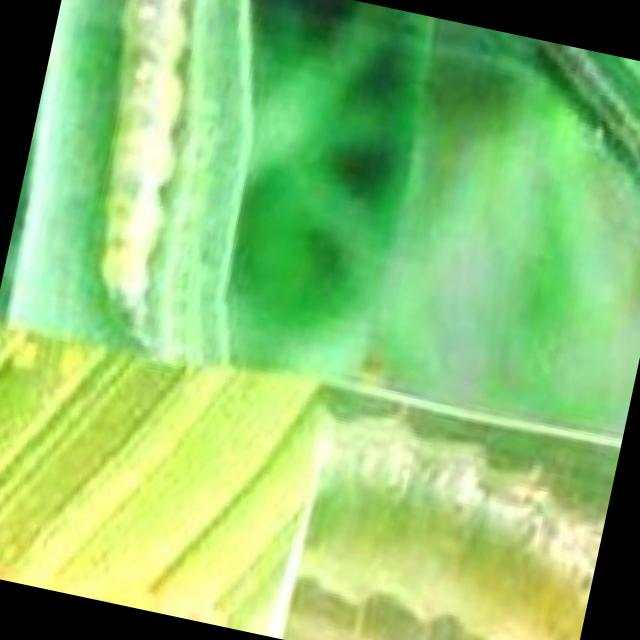leaf-folder: (43, 0, 240, 345), (297, 417, 590, 640)
